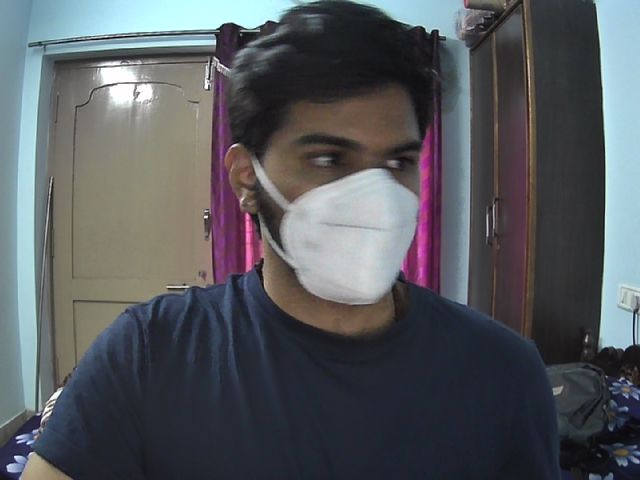Mask: (261, 175, 422, 312)
